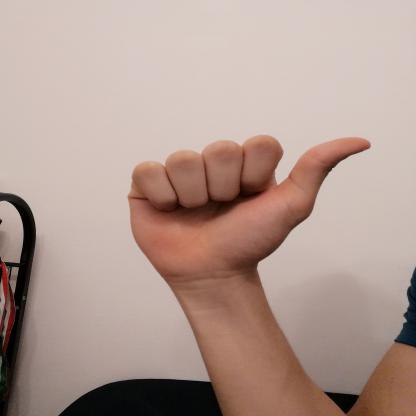DAD: (109, 122, 382, 287)
